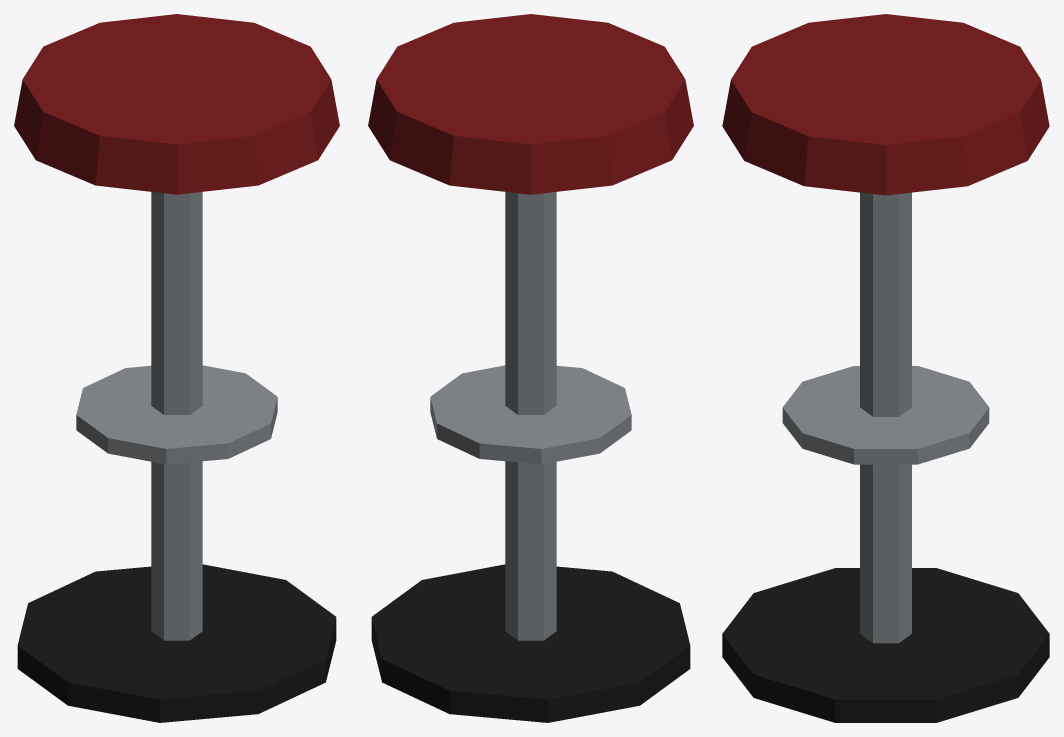
The model's file is stool.glb.
3 renders of one model, left to right at view 1: azimuth 30°, elevation 25°; view 2: azimuth 150°, elevation 25°; view 3: azimuth 270°, elevation 25°, orthographic.
Parts seen in each view (by area): view 1: stool; view 2: stool; view 3: stool.
Boxes of the visible parts, box(x1,y1,x2,y2) form: stool: box(14, 14, 339, 722); stool: box(368, 14, 693, 722); stool: box(722, 14, 1049, 722).
Size of the model in its own units: 0.38 by 0.74 by 0.38.
